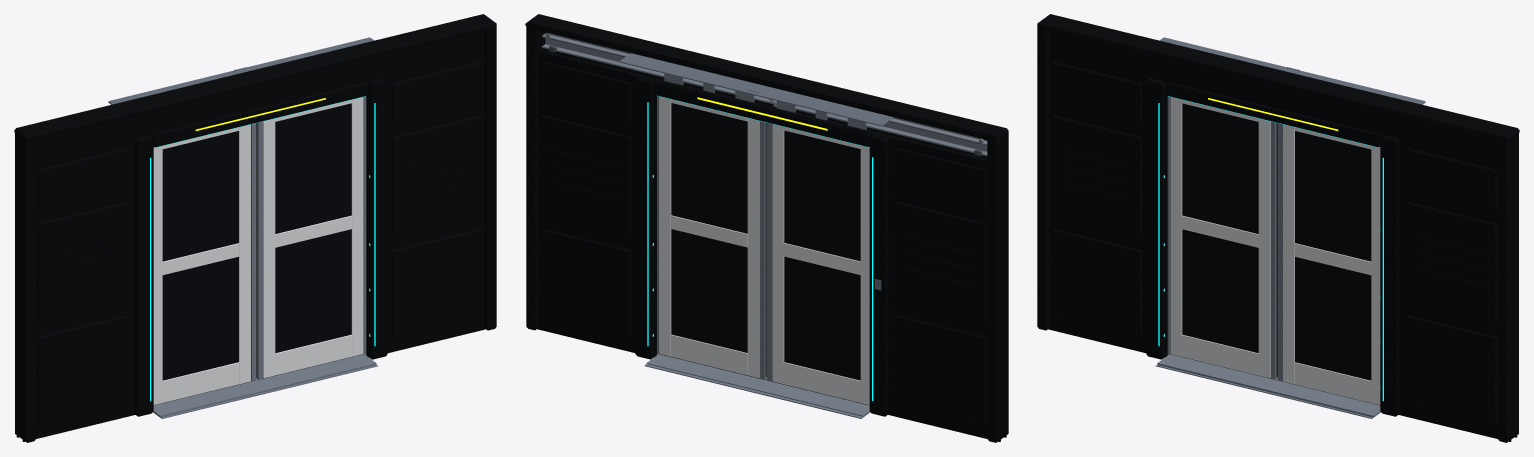
3 views of the same model, side by side, from view 1: azimuth 30°, elevation 25°; view 2: azimuth 150°, elevation 25°; view 3: azimuth 330°, elevation 25° (orthographic).
Parts seen in each view (by area): view 1: frame, leaf_R_core, leaf_L_core, leaf_R_face, leaf_L_face, threshold, leaf_R_stiles, slide_AccessPanel, leaf_L_stiles, reveal_strips, leaf_R_seal; view 2: frame, leaf_L_core, leaf_R_core, leaf_R_face, leaf_L_face, threshold, slide_Track, slide_AccessPanel, leaf_R_stiles, leaf_L_stiles, reveal_strips, slide_Belt (+1 smaller); view 3: frame, leaf_L_core, leaf_R_core, leaf_L_face, leaf_R_face, threshold, leaf_L_stiles, slide_AccessPanel, leaf_R_stiles, reveal_strips, leaf_L_seal.
Boxes of the visible parts, x1,y1,x2,y2 form: frame: [14, 14, 496, 442]; leaf_R_core: [263, 97, 363, 378]; leaf_L_core: [154, 124, 251, 405]; leaf_R_face: [263, 97, 363, 378]; leaf_L_face: [153, 124, 250, 404]; threshold: [153, 354, 378, 418]; leaf_R_stiles: [256, 96, 366, 379]; slide_AccessPanel: [108, 37, 373, 104]; leaf_L_stiles: [251, 123, 255, 381]; reveal_strips: [150, 96, 375, 401]; leaf_R_seal: [256, 123, 257, 377]; frame: [525, 14, 1008, 442]; leaf_L_core: [772, 124, 869, 405]; leaf_R_core: [659, 103, 759, 378]; leaf_R_face: [659, 96, 759, 377]; leaf_L_face: [772, 124, 869, 404]; threshold: [644, 354, 870, 418]; slide_Track: [542, 33, 987, 156]; slide_AccessPanel: [619, 53, 893, 126]; leaf_R_stiles: [657, 96, 766, 379]; leaf_L_stiles: [767, 122, 771, 381]; reveal_strips: [647, 95, 873, 400]; slide_Belt: [547, 33, 980, 143]; frame: [1037, 14, 1519, 442]; leaf_L_core: [1170, 97, 1270, 378]; leaf_R_core: [1282, 124, 1379, 405]; leaf_L_face: [1170, 97, 1270, 378]; leaf_R_face: [1283, 124, 1380, 404]; threshold: [1155, 354, 1380, 418]; leaf_L_stiles: [1167, 96, 1277, 379]; slide_AccessPanel: [1160, 37, 1425, 104]; leaf_R_stiles: [1278, 123, 1282, 381]; reveal_strips: [1158, 96, 1383, 401]; leaf_L_seal: [1276, 123, 1277, 377].
Size of what is drawn, in the model's own units: 4.35 by 2.7 by 0.498.
Materials: 11 (5 with a texture image).
